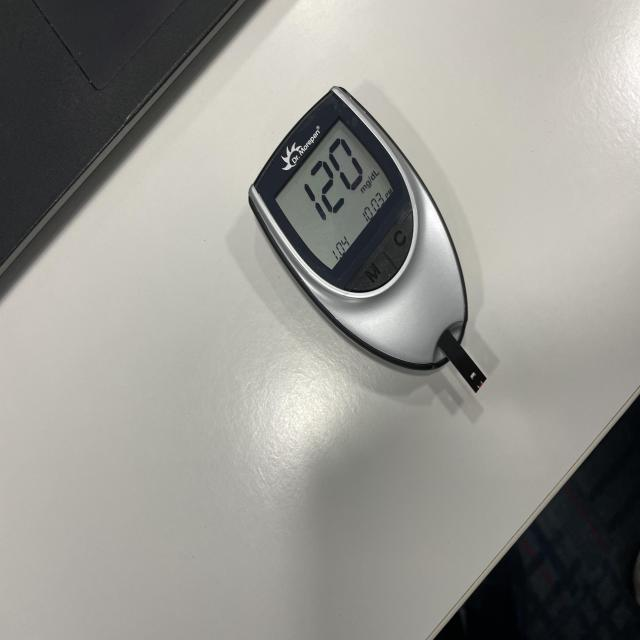gluco: (249, 87, 473, 379)
